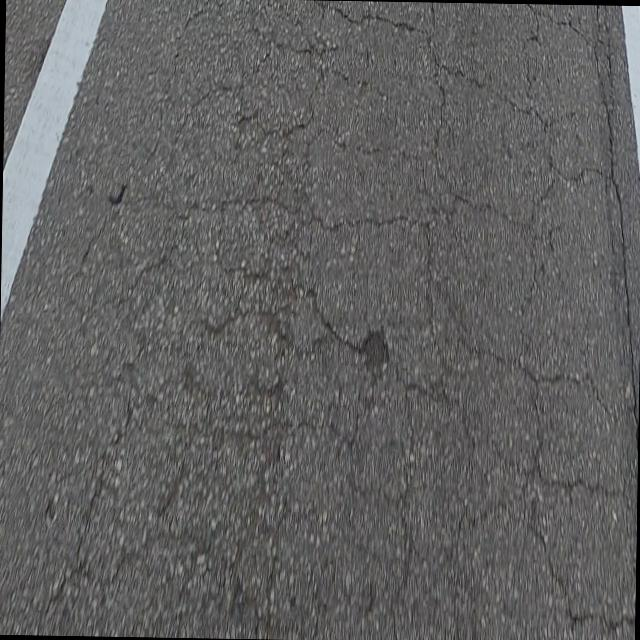Retak-Buaya: (49, 0, 638, 635)
